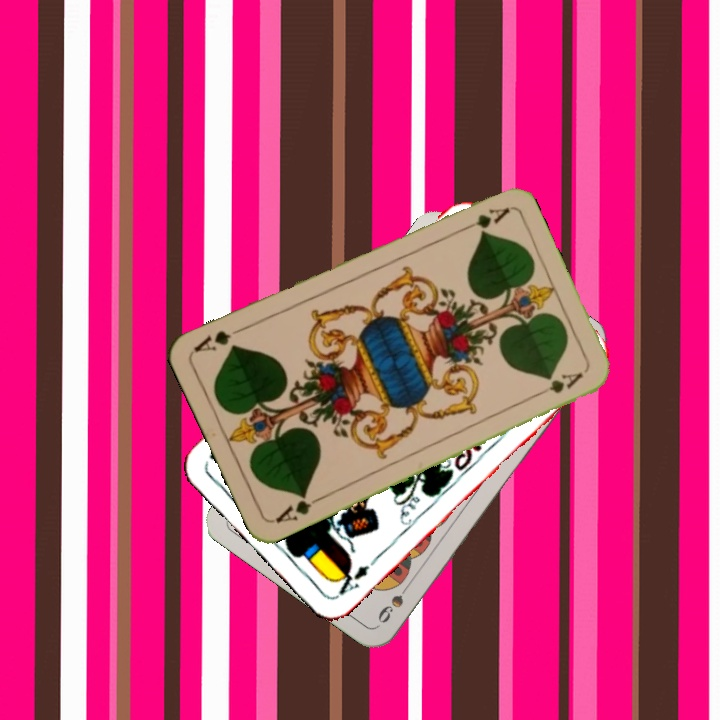EA: (331, 553, 380, 599)
GA: (271, 489, 326, 526), (455, 203, 512, 235)
S9: (373, 575, 415, 626)
